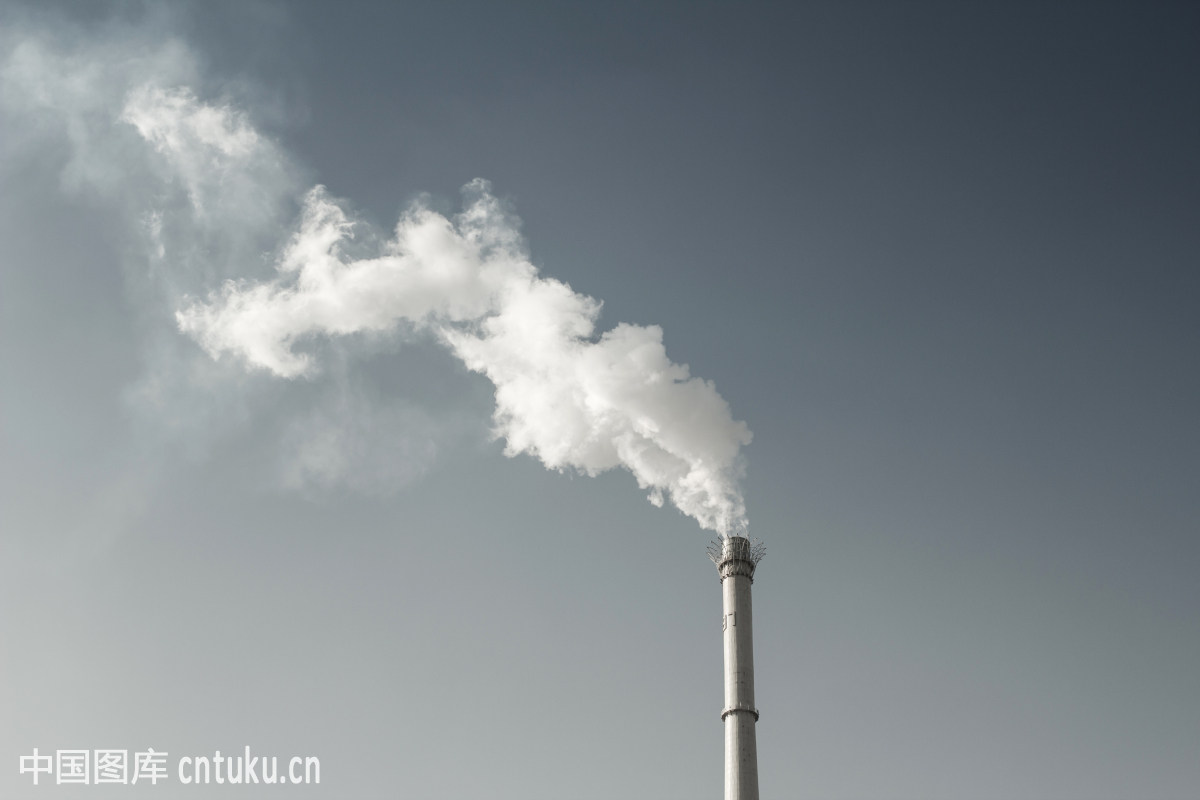dust: (260, 204, 758, 552)
